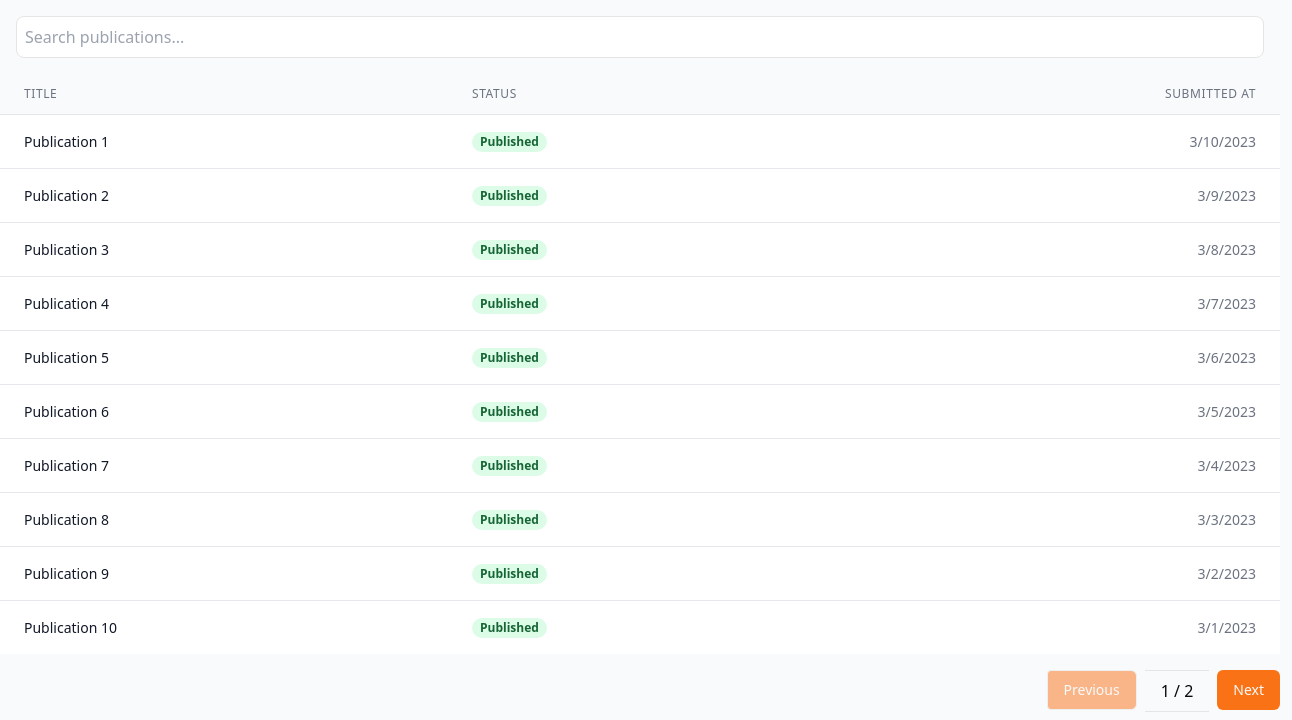
Test case: PublicationTable Component › renders pagination controls when paginated and more rows than rowsPerPage
The width and height of the screenshot is (1292, 720).
Check: the button "Previous" is shown, box [1046,670,1137,710]
Check: the text "1 / 2" is shown, box [1145,670,1209,712]
# Click the "Next" button and wait for the page to update.
Click the button "Next".
click(1249, 690)  # box [1217,670,1280,710]
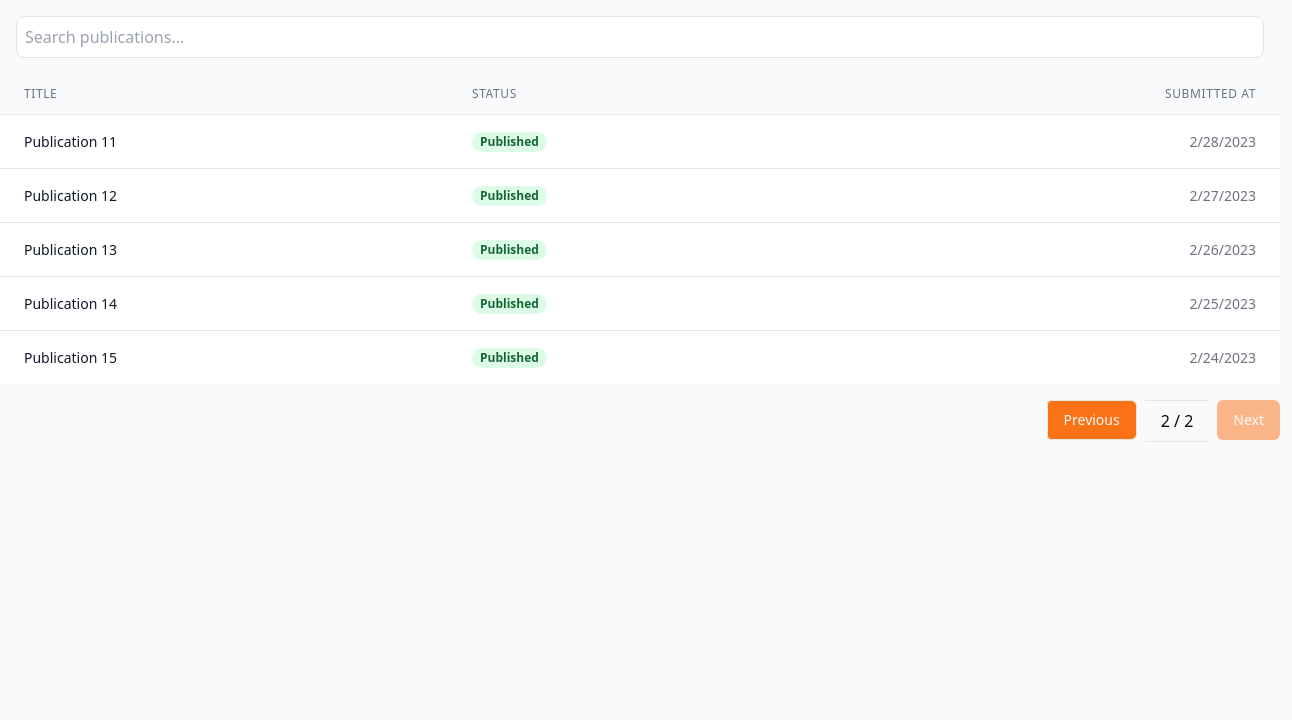
Check: the text "2 / 2" is shown, box [1145,400,1209,442]
